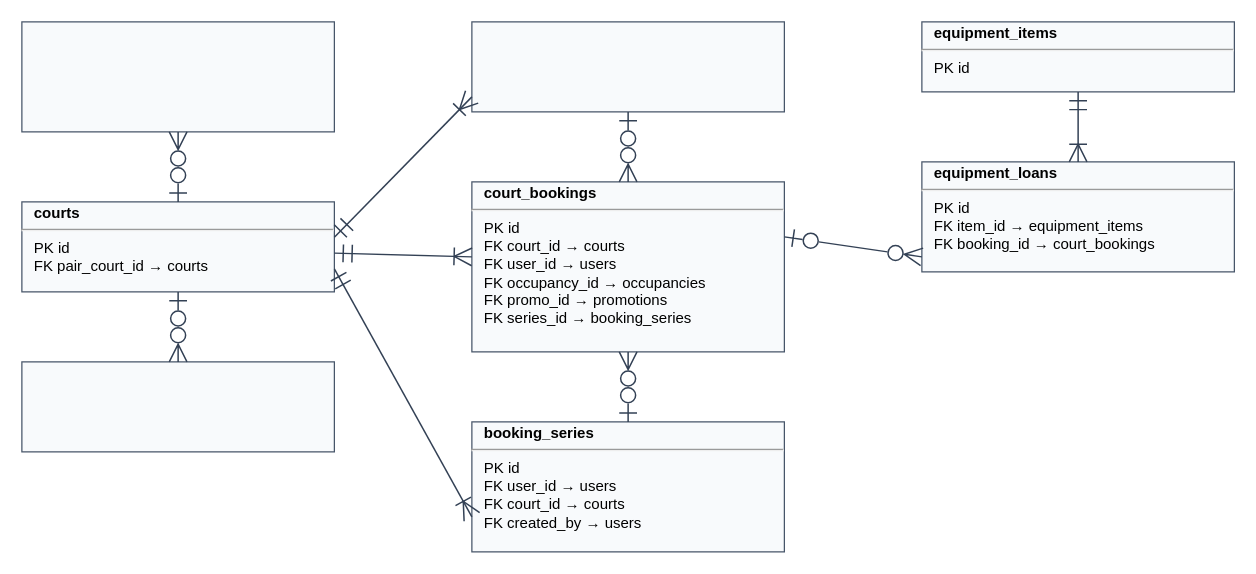
The diagram is 1256 pixels wide and 574 high, and some of its shapes have lost their labels. Here are the shapes that lost their labels. From the top down, the centre of each, then its label:
At point (177, 76): "work_orders PK id FK court_id → courts FK reported_by → users".
At point (627, 66): "occupancies PK id FK court_id → courts".
At point (177, 406): "price_rules PK id FK court_id → courts".
